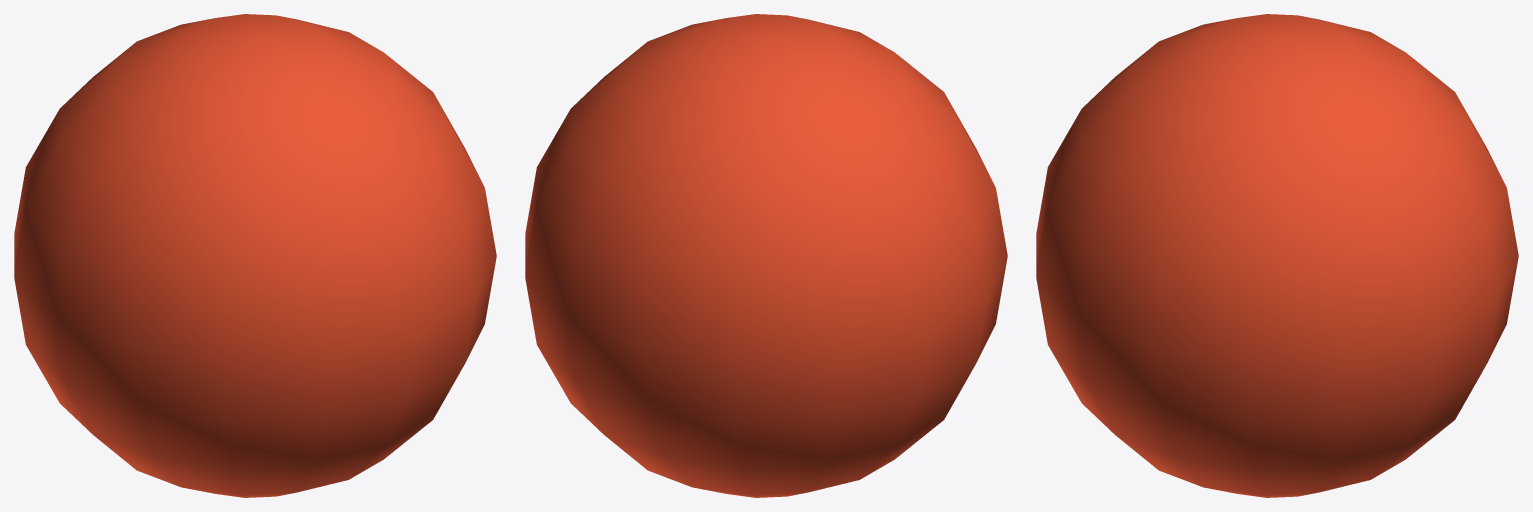
The model's file is bong.fbx.
3 views of the same model, side by side, from view 1: azimuth 30°, elevation 25°; view 2: azimuth 150°, elevation 25°; view 3: azimuth 270°, elevation 25° (orthographic).
Visible parts, largest first — view 1: Sphere; view 2: Sphere; view 3: Sphere.
Boxes of the visible parts, x1=… form: Sphere: x1=14, y1=14, x2=496, y2=497; Sphere: x1=525, y1=14, x2=1007, y2=497; Sphere: x1=1036, y1=14, x2=1518, y2=497.
Bounding box in the file's own units: 52.35 × 52.64 × 52.06.
